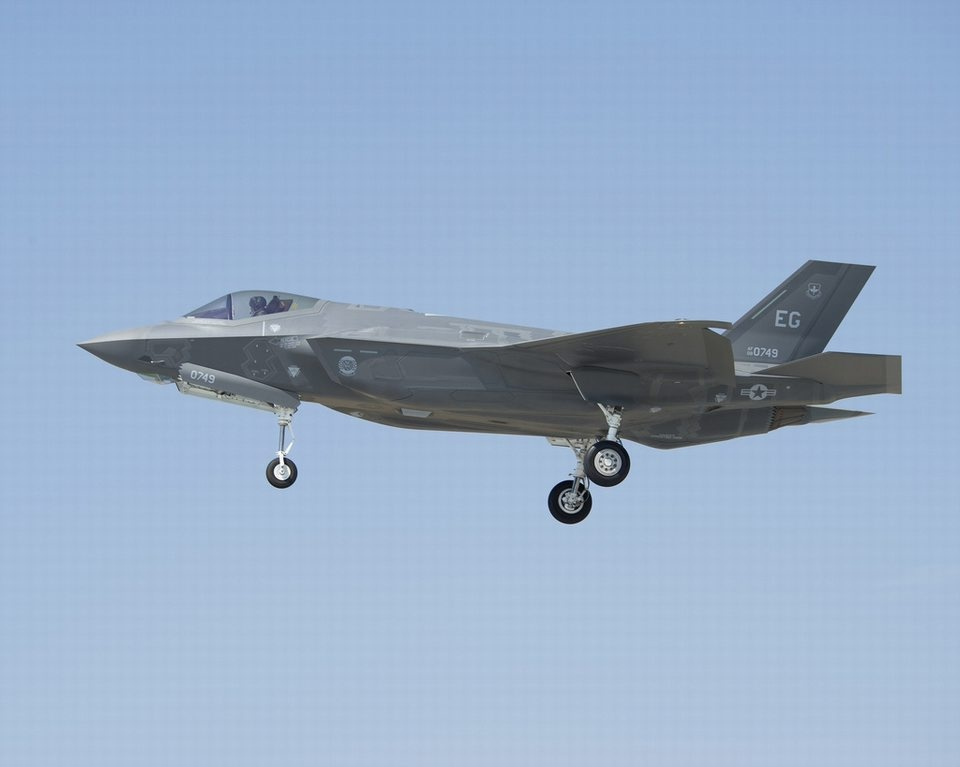airplane: (74, 251, 907, 522)
